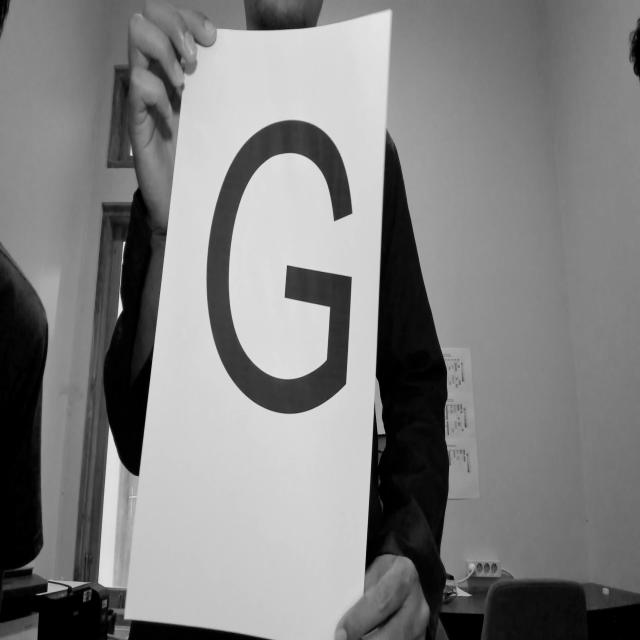g: (202, 108, 363, 428)
